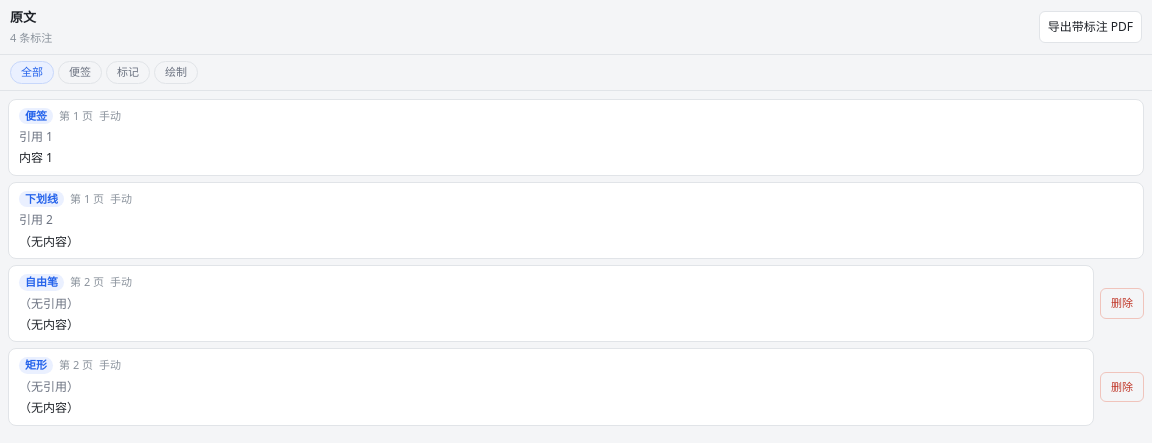
Test: StickyNotesPanel 标注筛选与列表 › 筛选隐藏部分标注时导出仍提交全量标注
Click the button "便签" at (80,72), box [58, 61, 102, 84]
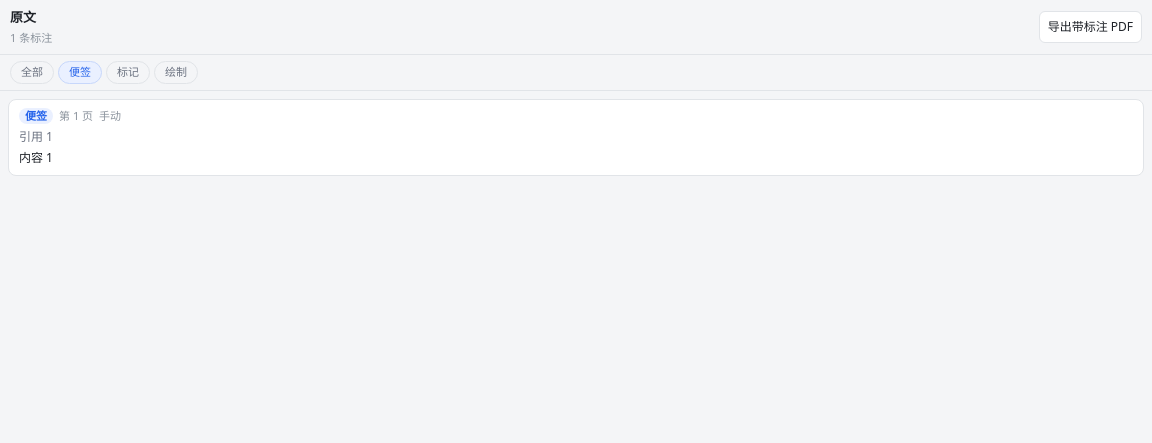
Now the text "1 条标注" is shown, box [10, 30, 52, 46]
Click the button "导出带标注 PDF" at (1090,27), box [1039, 11, 1142, 43]
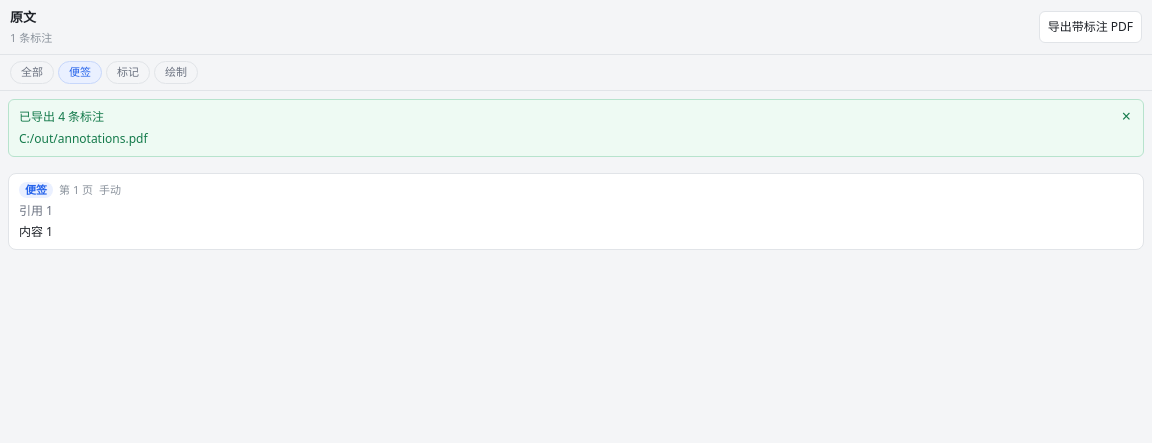
Now the text "已导出 4 条标注" is shown, box [19, 108, 104, 124]
